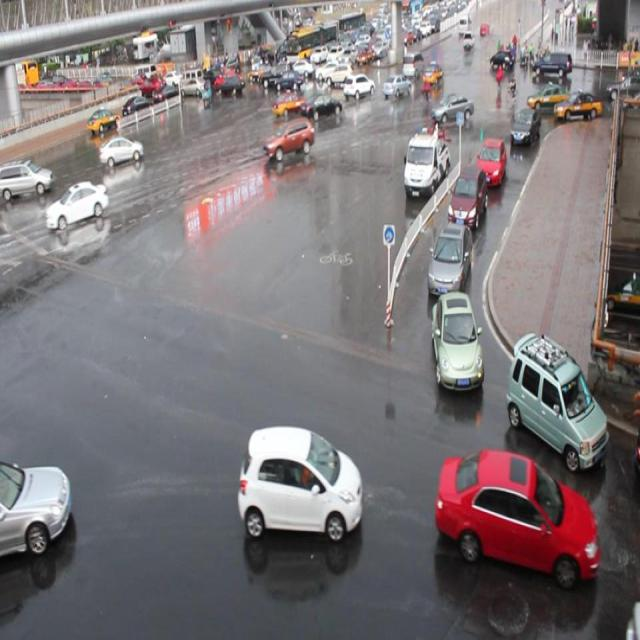bus: (402, 128, 448, 198)
car: (435, 447, 598, 584), (503, 327, 609, 472), (237, 425, 363, 540), (0, 458, 70, 557), (431, 287, 484, 386), (427, 221, 472, 295), (46, 182, 110, 232), (446, 164, 486, 228), (264, 118, 313, 159), (100, 135, 144, 167), (430, 90, 473, 122), (476, 136, 505, 183), (525, 82, 570, 111), (301, 91, 342, 120), (510, 106, 538, 146), (272, 89, 305, 114), (343, 74, 375, 98)
truck: (1, 158, 53, 195)
